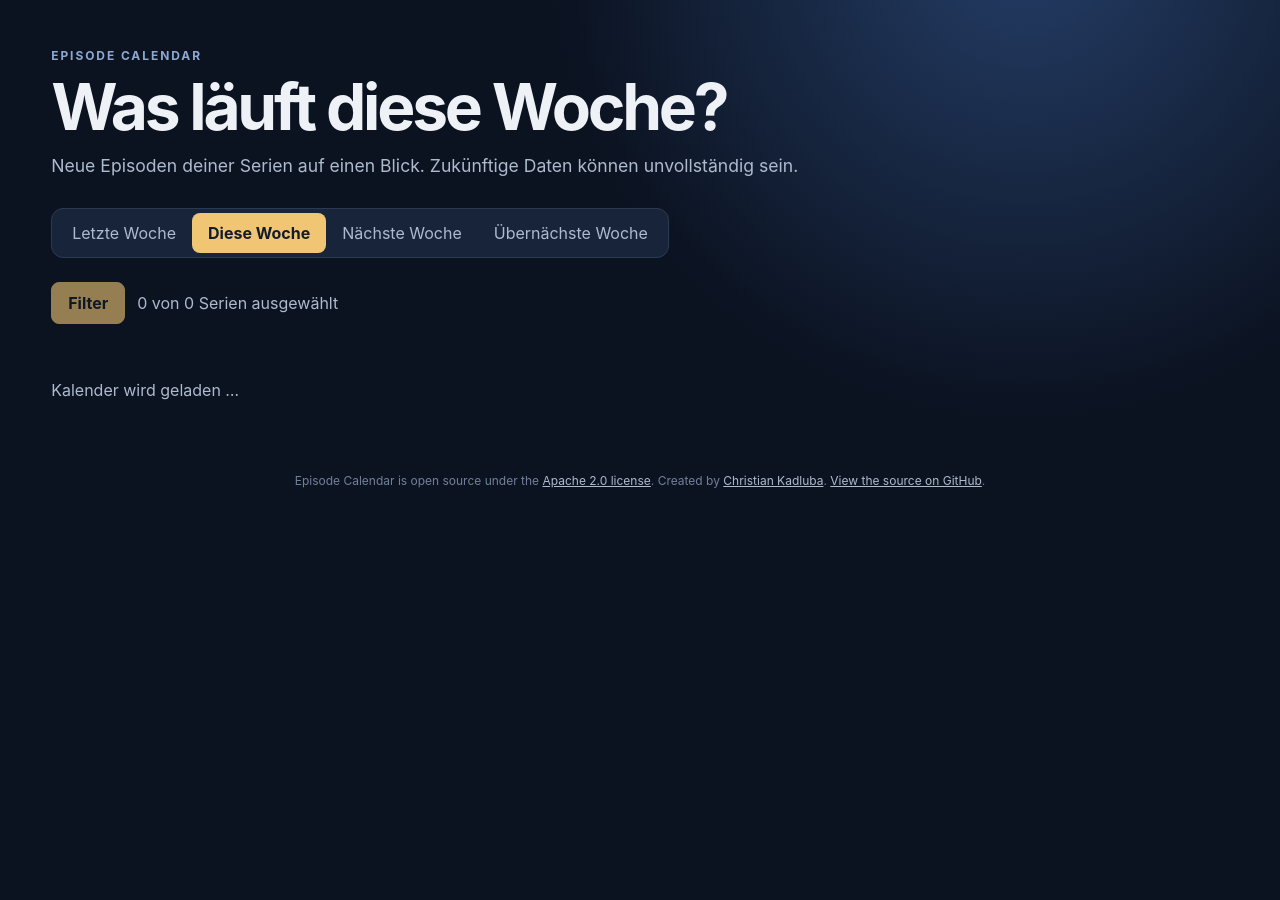
Test case: App preferences › uses a future-oriented heading for next week
What coordinates should you click on to do the following:
click the button "Nächste Woche"
I would click on:
 (402, 233)
Its box is top-left (326, 213), bottom-right (478, 253).
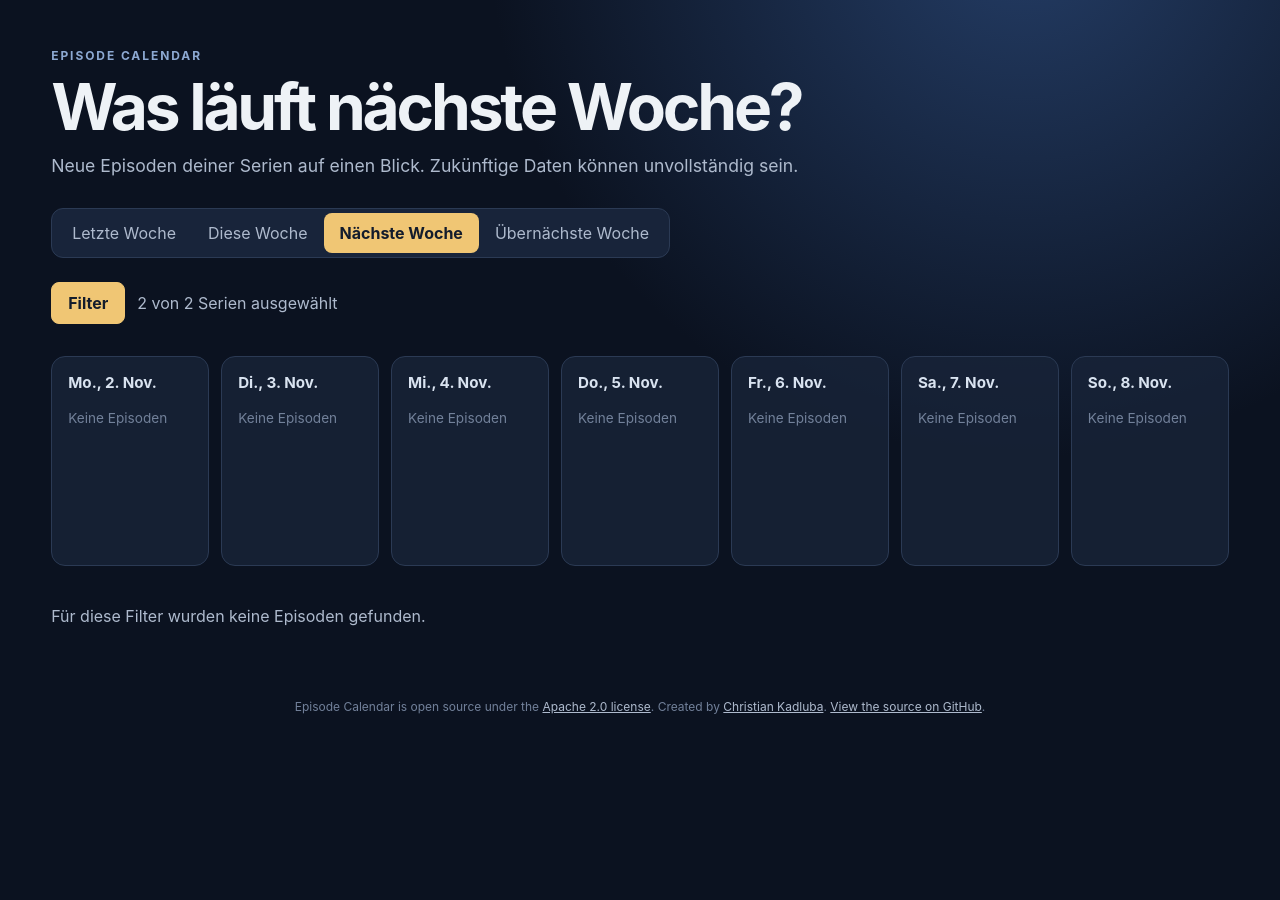
Now the heading "Was läuft nächste Woche?" is shown, box top-left (51, 68), bottom-right (802, 145)
